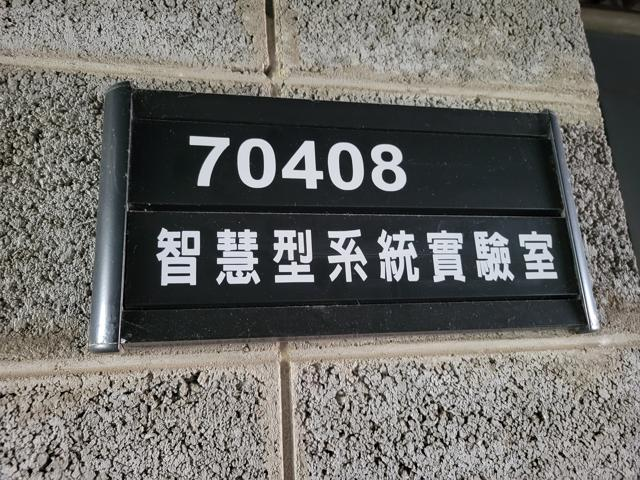doorplate: (84, 71, 612, 359)
